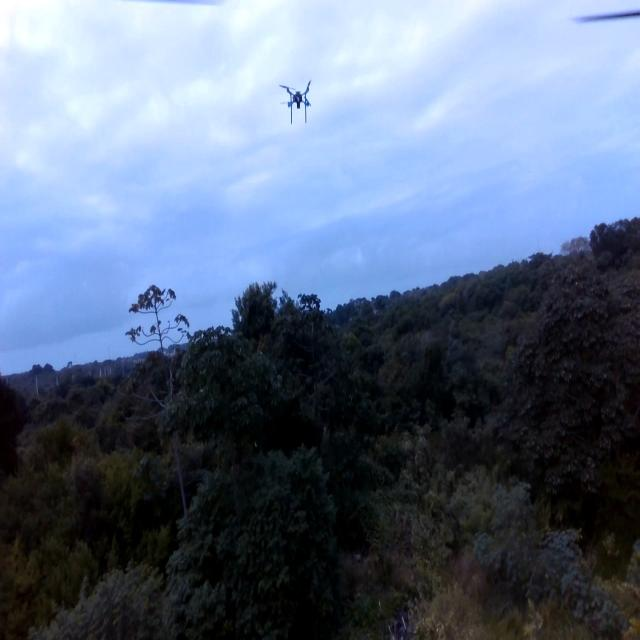-uav-: (275, 68, 316, 131)
